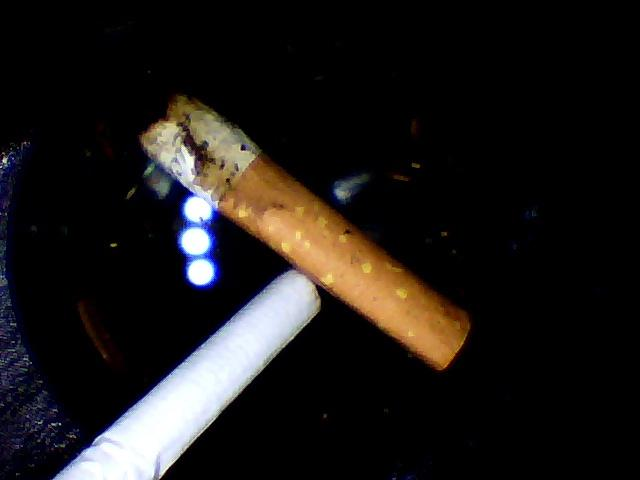megot: (130, 81, 477, 374), (44, 258, 335, 477)
